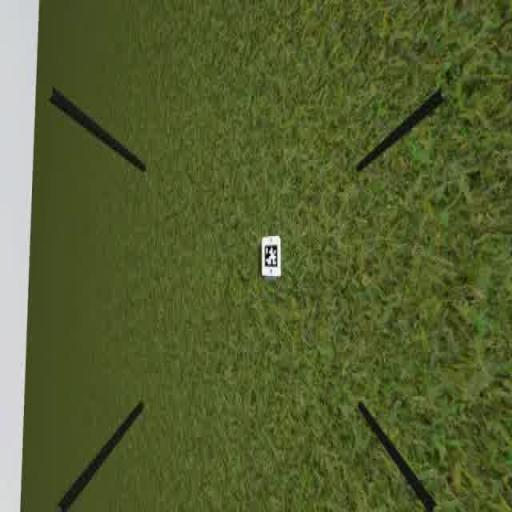UGV: (259, 234, 284, 280)
